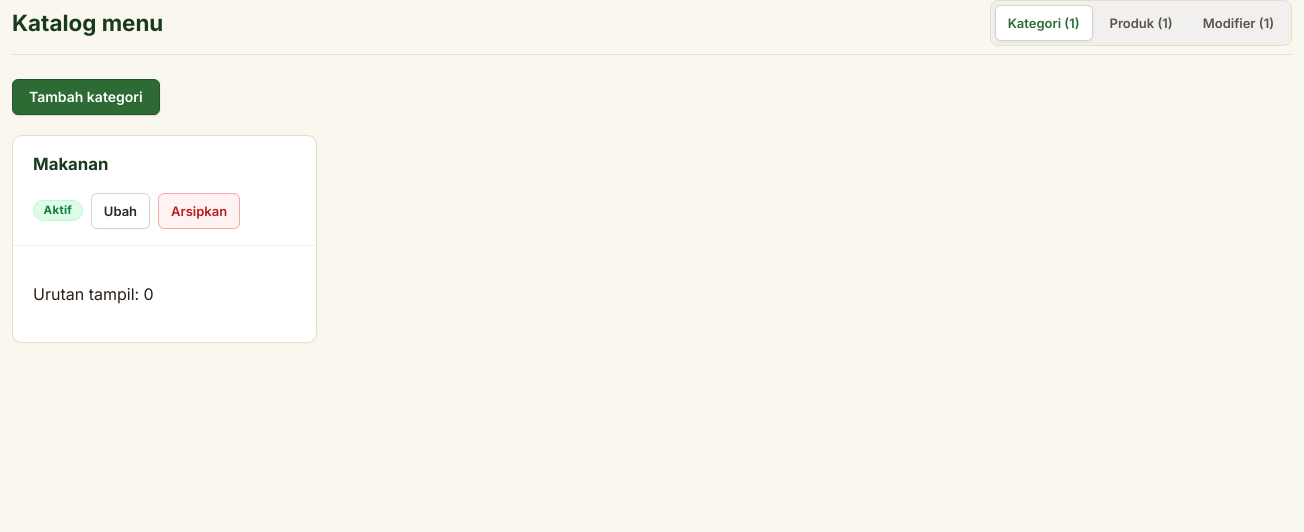
it: CatalogPage › switches to the products tab
This screenshot has width=1304, height=532.
Check: the heading "Makanan" is shown, box [33,152,108,177]
Click the tab "Produk (1)": (1141, 23) [1097,5,1186,41]
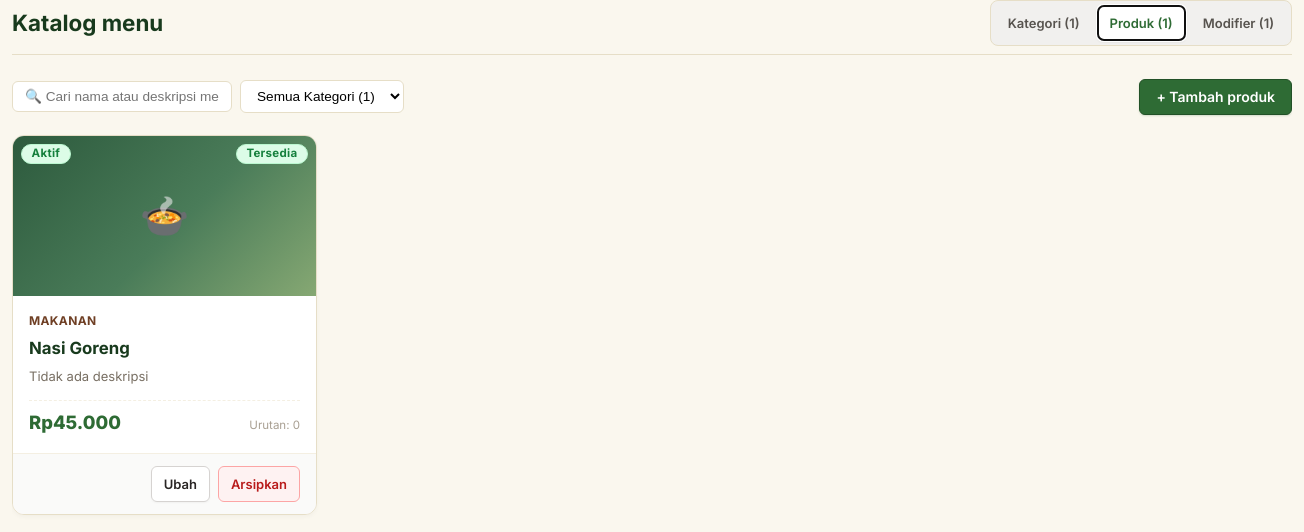
Check: the heading "Nasi Goreng" is shown, box [29,338,130,358]
Check: the text "Rp45.000" is shown, box [29,409,121,437]
